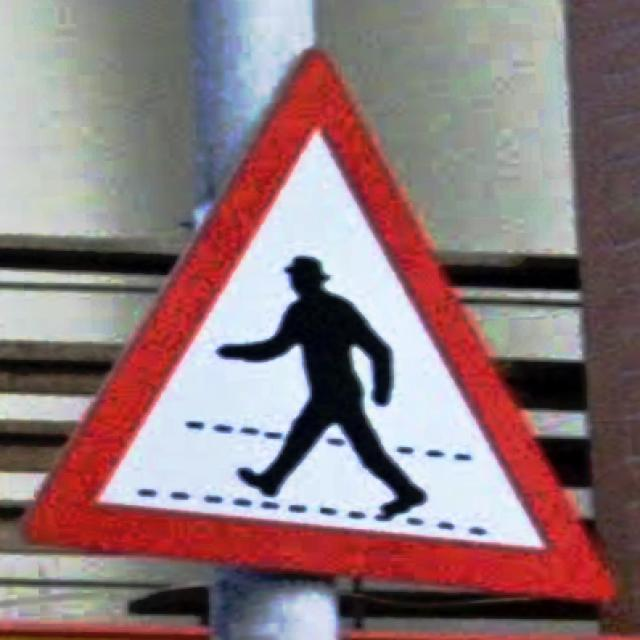pedestriancross: (21, 48, 618, 603)
